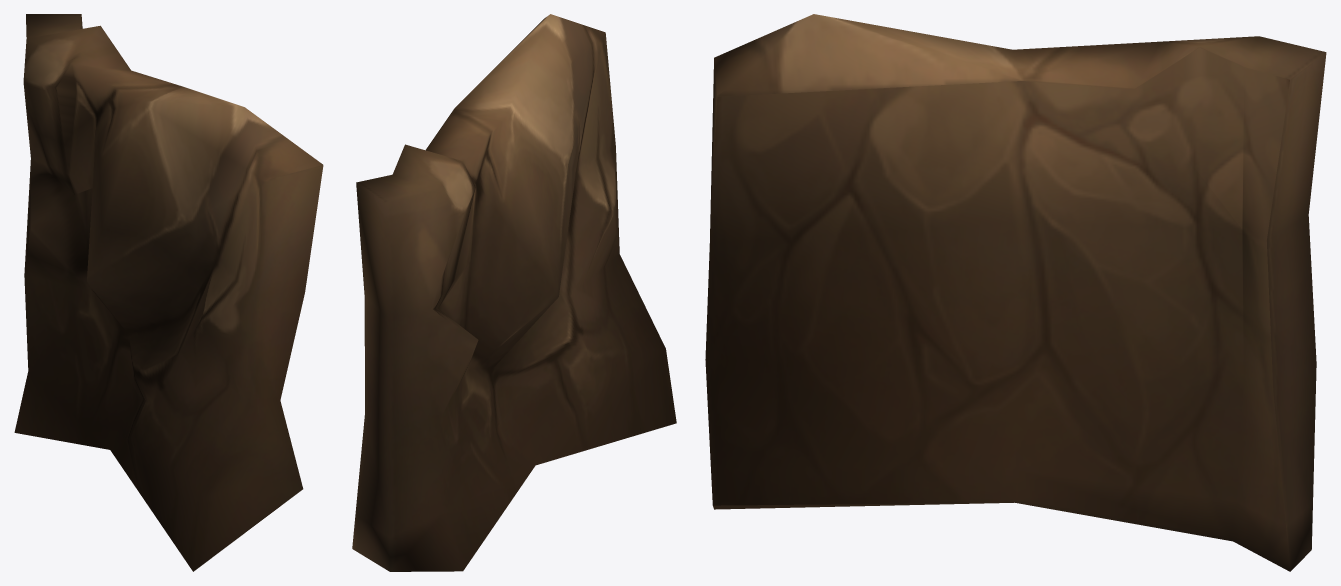
The model's file is Wall_cave_first_01.fbx.
The picture shows the model from 3 angles, left to right: view 1: azimuth 30°, elevation 25°; view 2: azimuth 150°, elevation 25°; view 3: azimuth 270°, elevation 25°; orthographic projection. The views are drawn at different scales.
Parts seen in each view (by area): view 1: Wall_cave_first_01; view 2: Wall_cave_first_01; view 3: Wall_cave_first_01.
Part boxes in pixels (x1,y1,x2,y2): Wall_cave_first_01: (14,14,323,571); Wall_cave_first_01: (352,14,676,571); Wall_cave_first_01: (705,14,1326,571).
Size of the model in its own units: 136 by 419 by 417.
